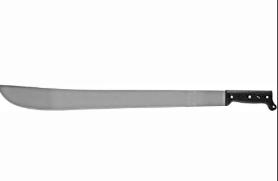MACHETTE: (0, 80, 278, 117)
